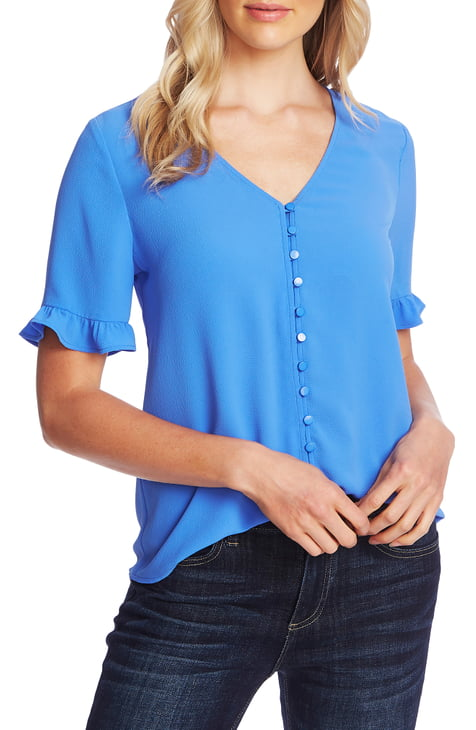C_jeans: (91, 506, 447, 730)
C_short blouse: (30, 91, 439, 584)
